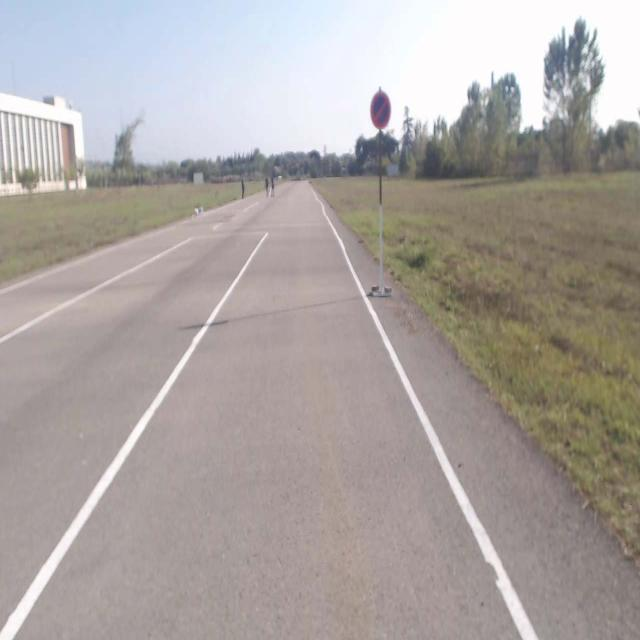parkyasak: (370, 91, 390, 129)
